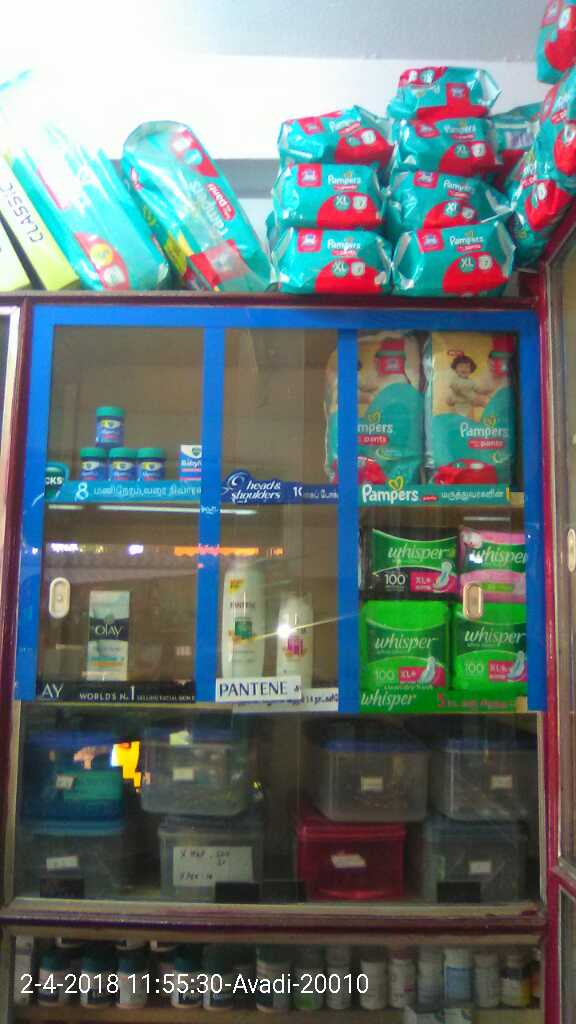vicks: (74, 394, 204, 484)
